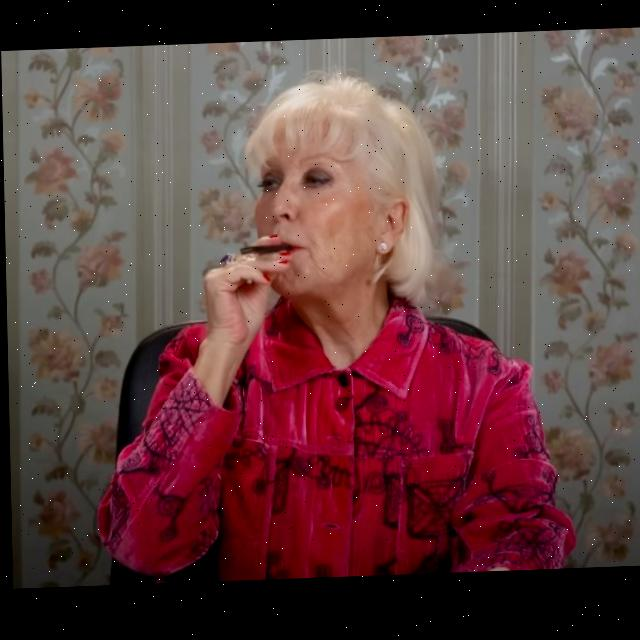vape: (238, 248, 291, 257)
